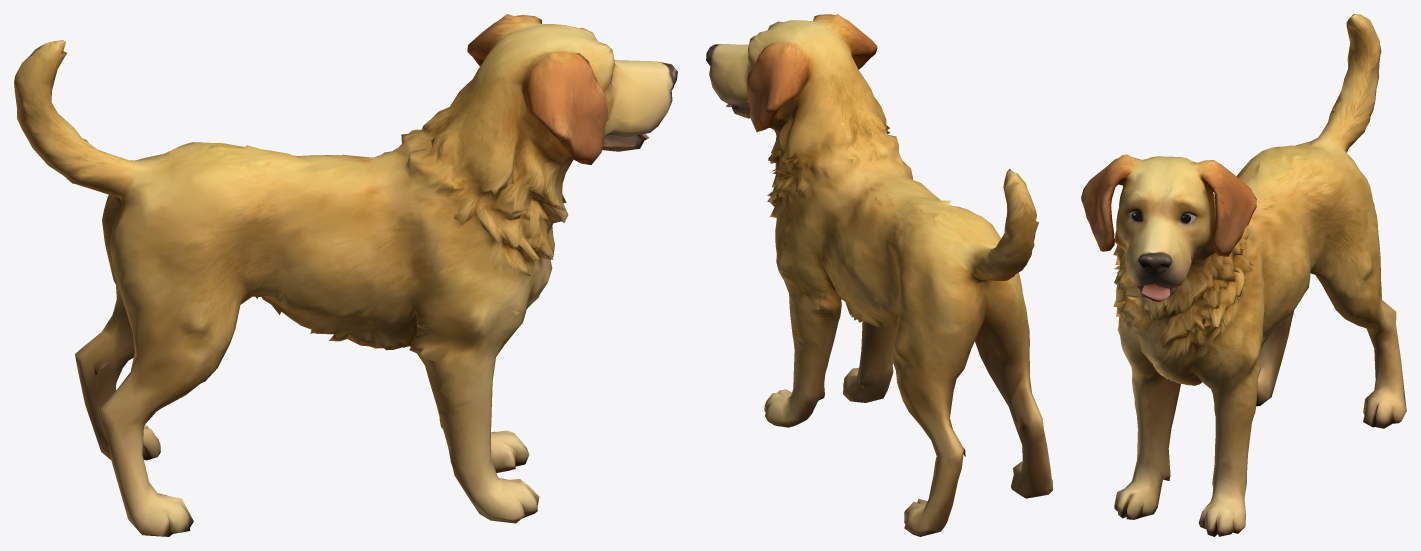
File: dog.glb
3 views of the same model, side by side, from view 1: azimuth 30°, elevation 25°; view 2: azimuth 150°, elevation 25°; view 3: azimuth 270°, elevation 25° (orthographic). The views are drawn at different scales.
Parts seen in each view (by area): view 1: tripo_node_fced3c2b-6751-4628-abca-6fab802336b0; view 2: tripo_node_fced3c2b-6751-4628-abca-6fab802336b0; view 3: tripo_node_fced3c2b-6751-4628-abca-6fab802336b0.
Part boxes in pixels (x1,y1,x2,y2): tripo_node_fced3c2b-6751-4628-abca-6fab802336b0: [14, 14, 677, 536]; tripo_node_fced3c2b-6751-4628-abca-6fab802336b0: [706, 14, 1052, 536]; tripo_node_fced3c2b-6751-4628-abca-6fab802336b0: [1081, 14, 1406, 536].
Size of the model in its own units: 0.9774 by 0.8073 by 0.6369.
Materials: 1 (1 with a texture image).
